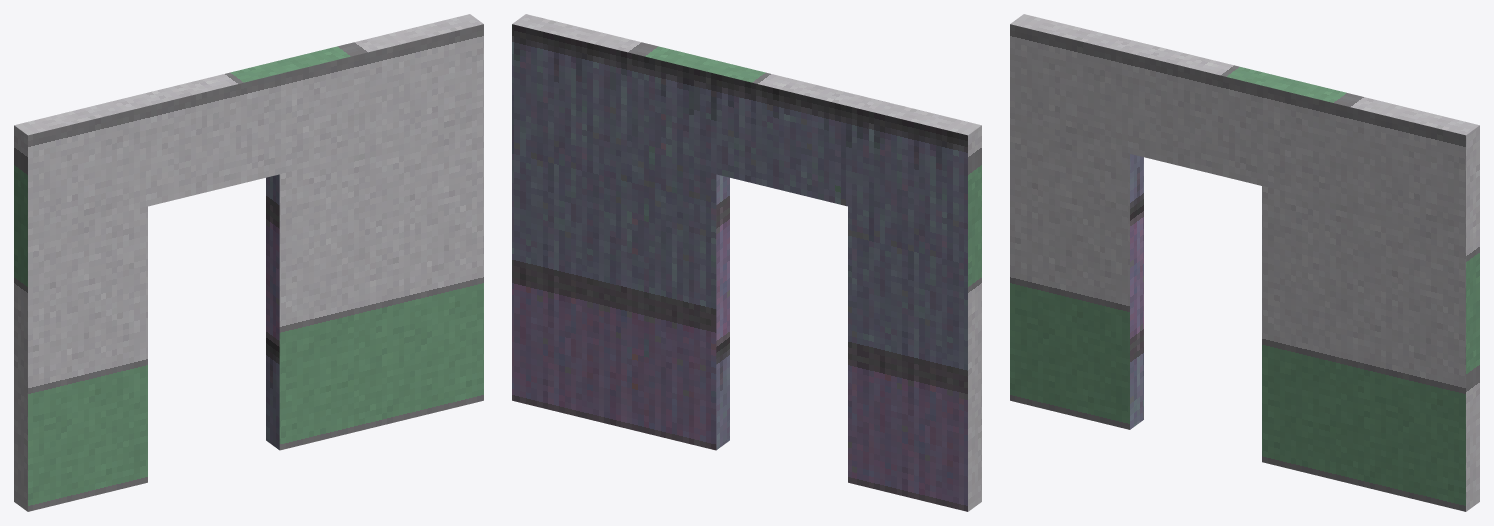
File: Parents_Wall.fbx
3 views of the same model, side by side, from view 1: azimuth 30°, elevation 25°; view 2: azimuth 150°, elevation 25°; view 3: azimuth 330°, elevation 25° (orthographic).
Visible parts, largest first — view 1: Parents_Wall; view 2: Parents_Wall; view 3: Parents_Wall.
Part boxes in pixels (x1=…): Parents_Wall: x1=14, y1=14, x2=483, y2=511; Parents_Wall: x1=512, y1=14, x2=981, y2=511; Parents_Wall: x1=1010, y1=14, x2=1479, y2=511.
Bounding box in the file's own units: 380 × 300 × 20.
